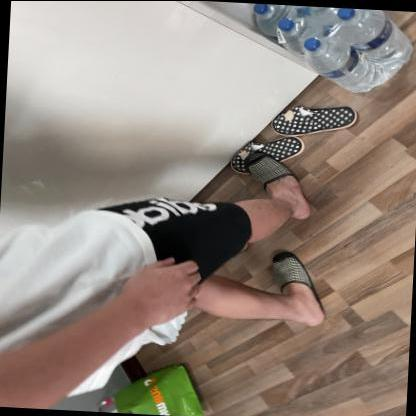no_safety-shoe: (244, 149, 333, 221), (266, 250, 338, 330)
